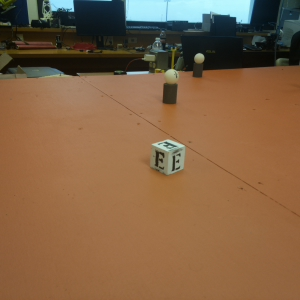blockE: (150, 138, 185, 176)
obstacle: (163, 69, 178, 107), (192, 52, 204, 79)
